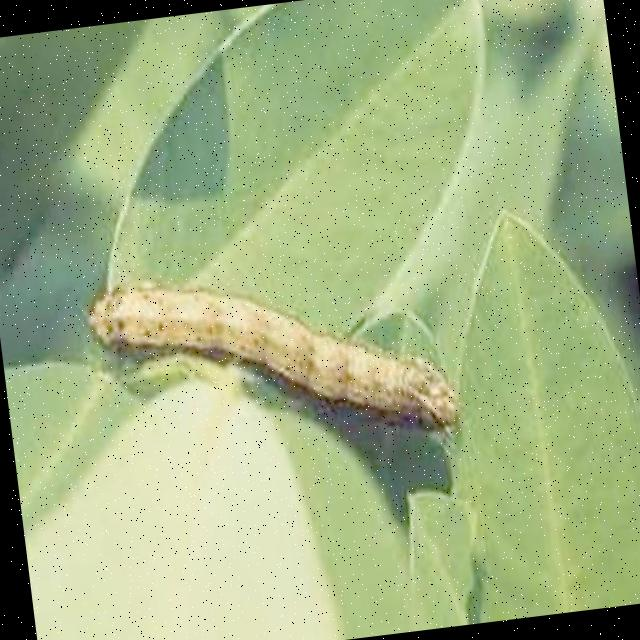worm: (84, 243, 465, 479)
